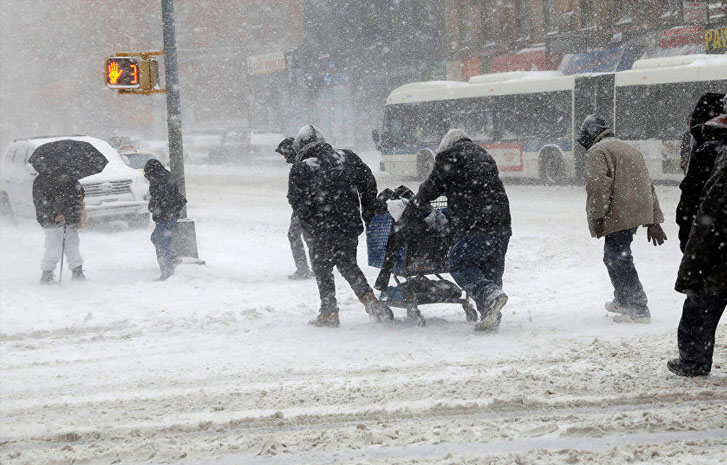person: (580, 116, 664, 326), (293, 126, 372, 333), (438, 128, 511, 334), (33, 172, 87, 288), (144, 157, 182, 283)
